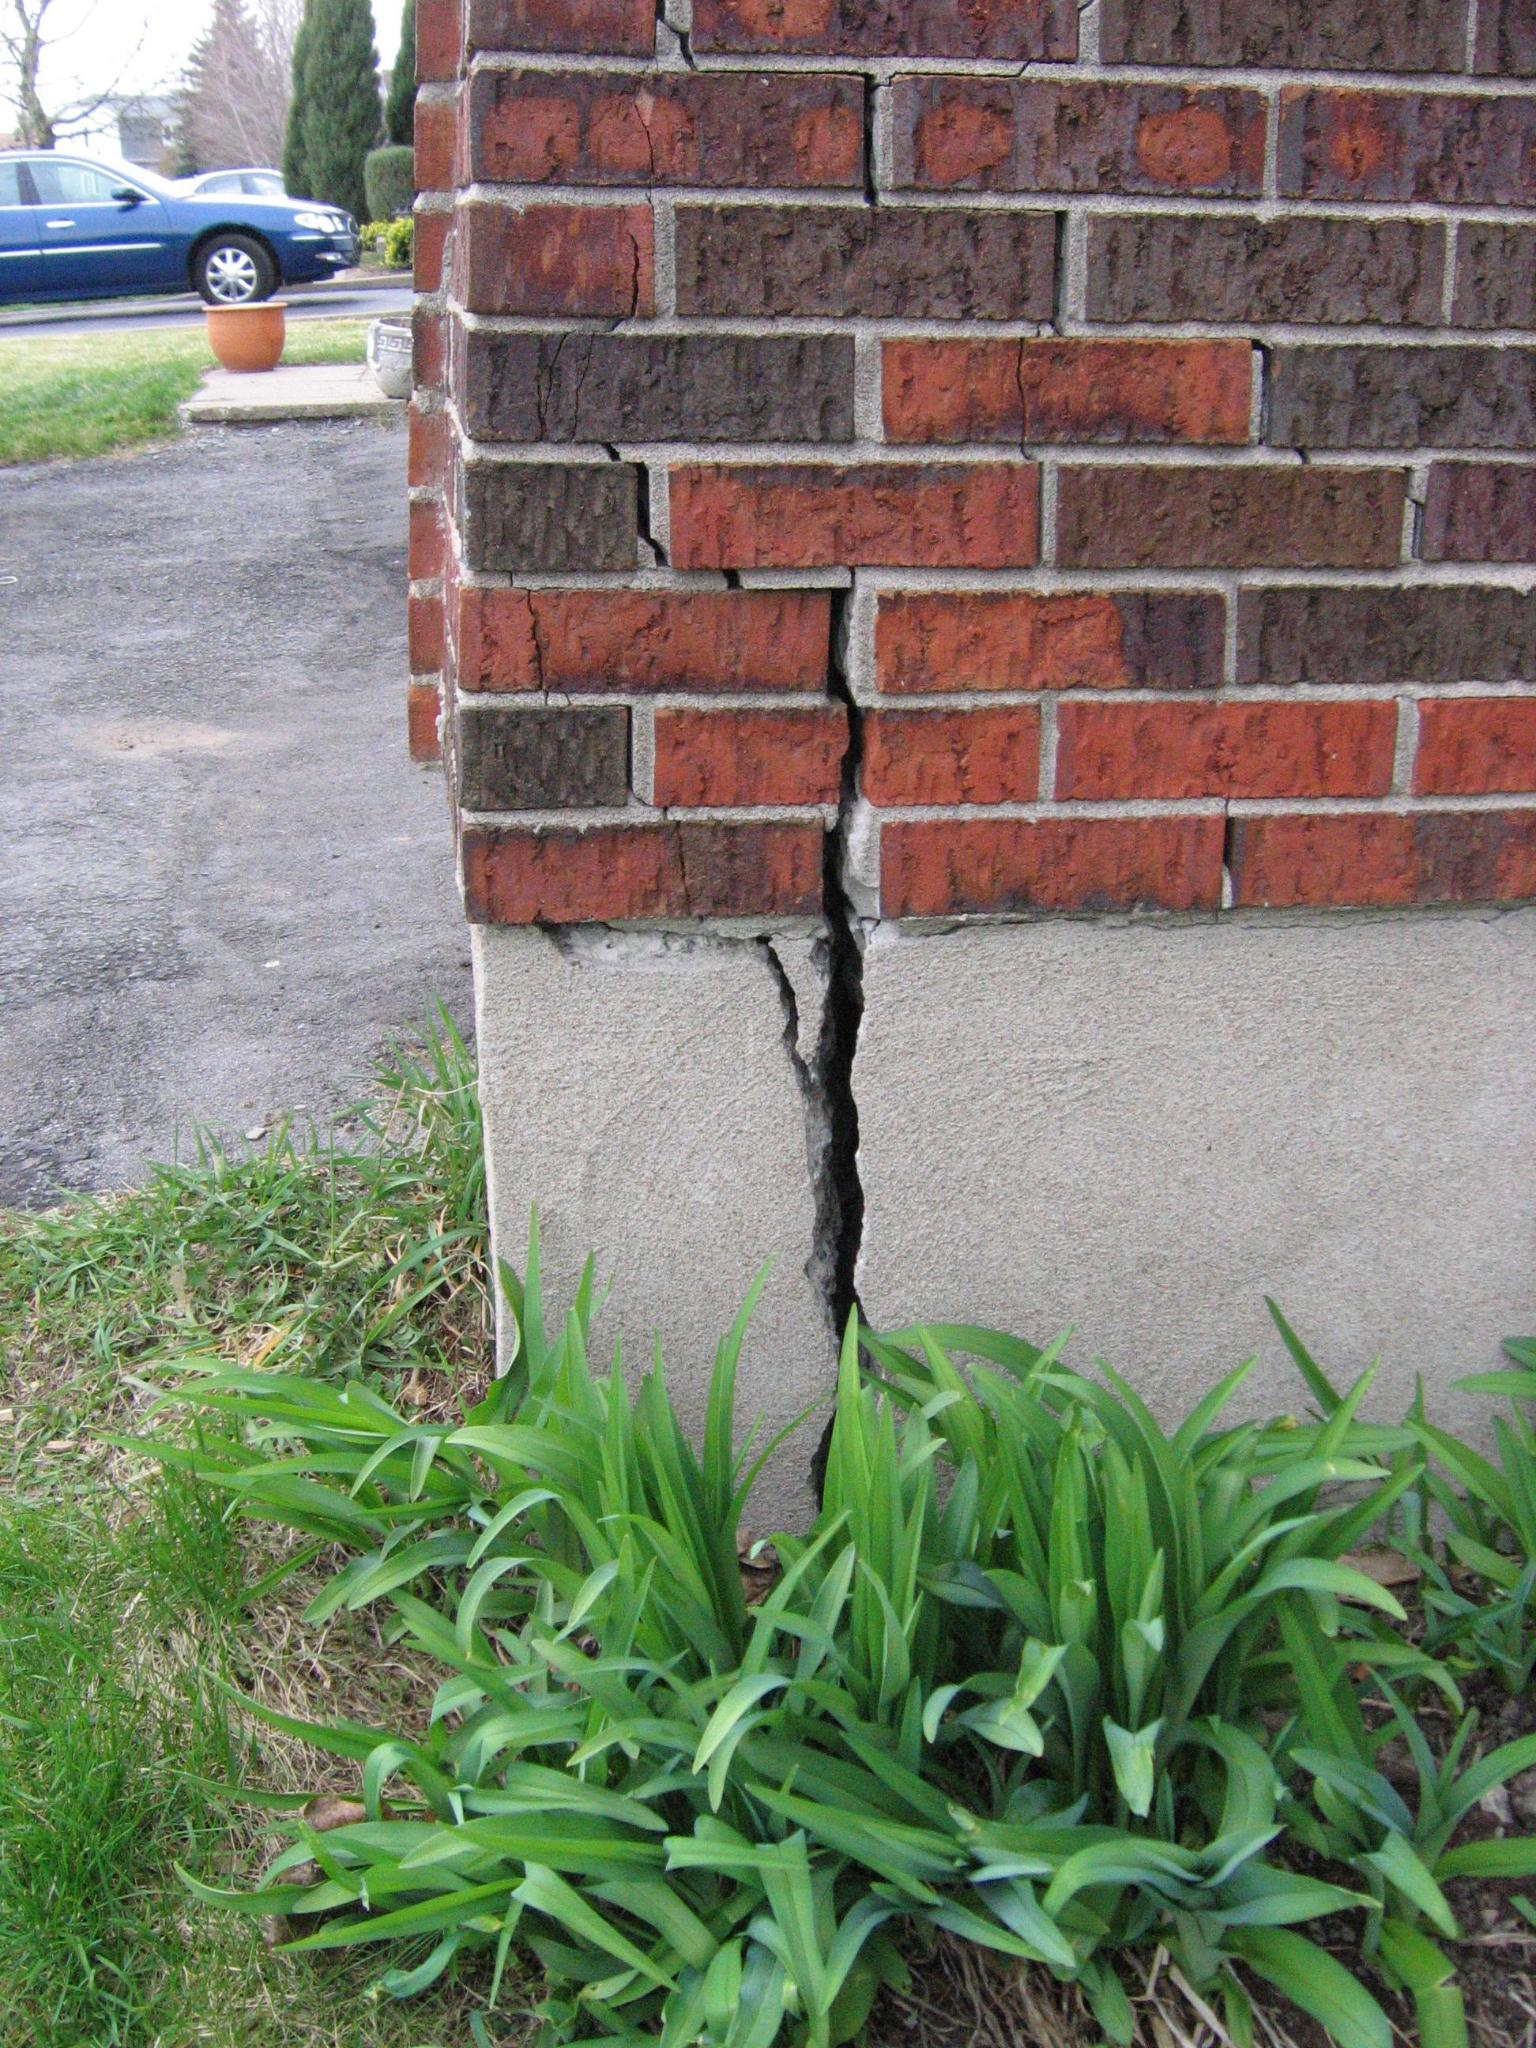crack: (542, 564, 881, 1517), (657, 0, 879, 206), (873, 0, 1097, 94), (1102, 903, 1536, 939), (599, 443, 670, 568), (899, 918, 1099, 937), (1252, 339, 1271, 445), (1405, 493, 1426, 560), (723, 569, 747, 590), (1294, 450, 1312, 466)
